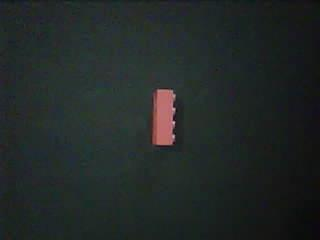lego: (150, 87, 175, 146)
